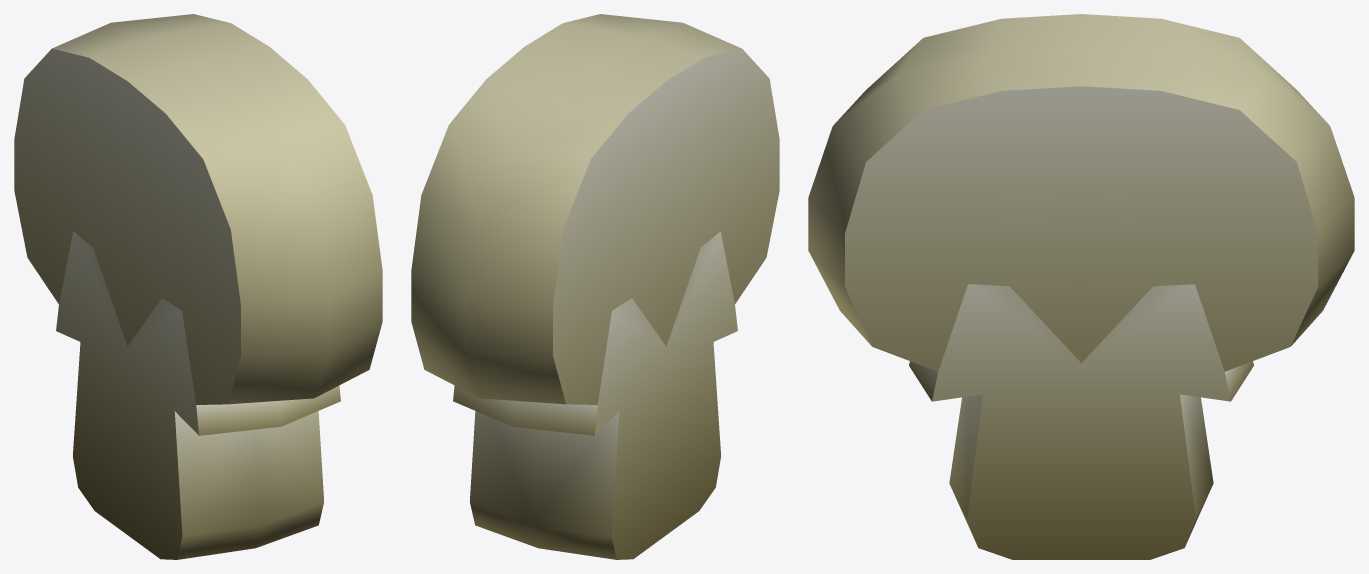
The model's file is Bell_Mushroom_Slice_02.glb.
3 views of the same model, side by side, from view 1: azimuth 30°, elevation 25°; view 2: azimuth 150°, elevation 25°; view 3: azimuth 270°, elevation 25° (orthographic). The views are drawn at different scales.
Visible parts, largest first — view 1: Bell_Mushroom_Slice_02; view 2: Bell_Mushroom_Slice_02; view 3: Bell_Mushroom_Slice_02.
Part boxes in pixels (<box>): Bell_Mushroom_Slice_02: <box>14,14,382,559</box>; Bell_Mushroom_Slice_02: <box>411,14,779,559</box>; Bell_Mushroom_Slice_02: <box>808,14,1354,559</box>.
Bounding box in the file's own units: 0.0665 × 0.2045 × 0.2127.
1 material, 1 textured.
